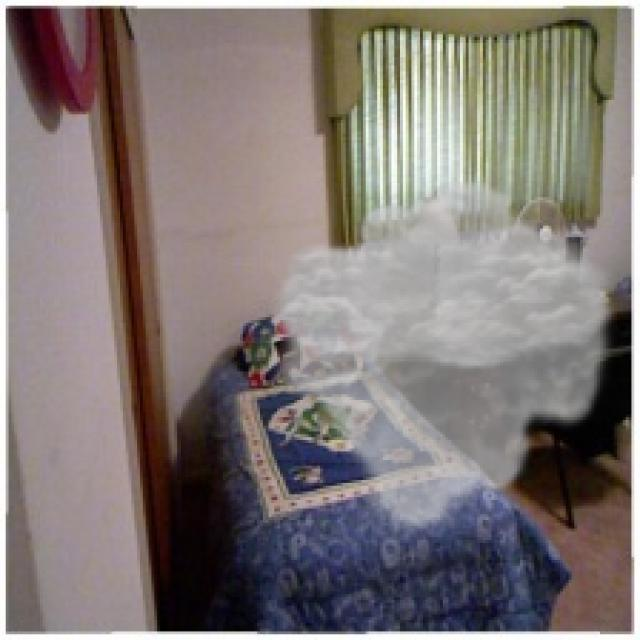smoke: (263, 174, 623, 537)
